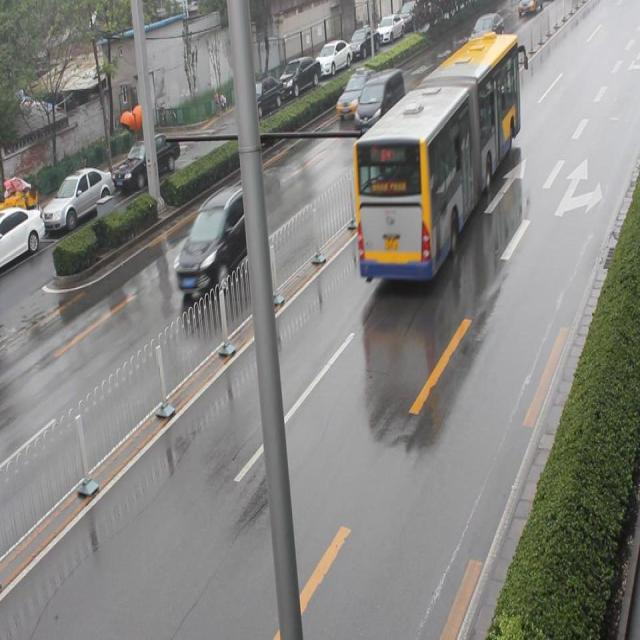car: (174, 188, 266, 298), (334, 66, 375, 118), (464, 9, 504, 51)
truck: (356, 69, 403, 137)
van: (352, 33, 520, 279)
